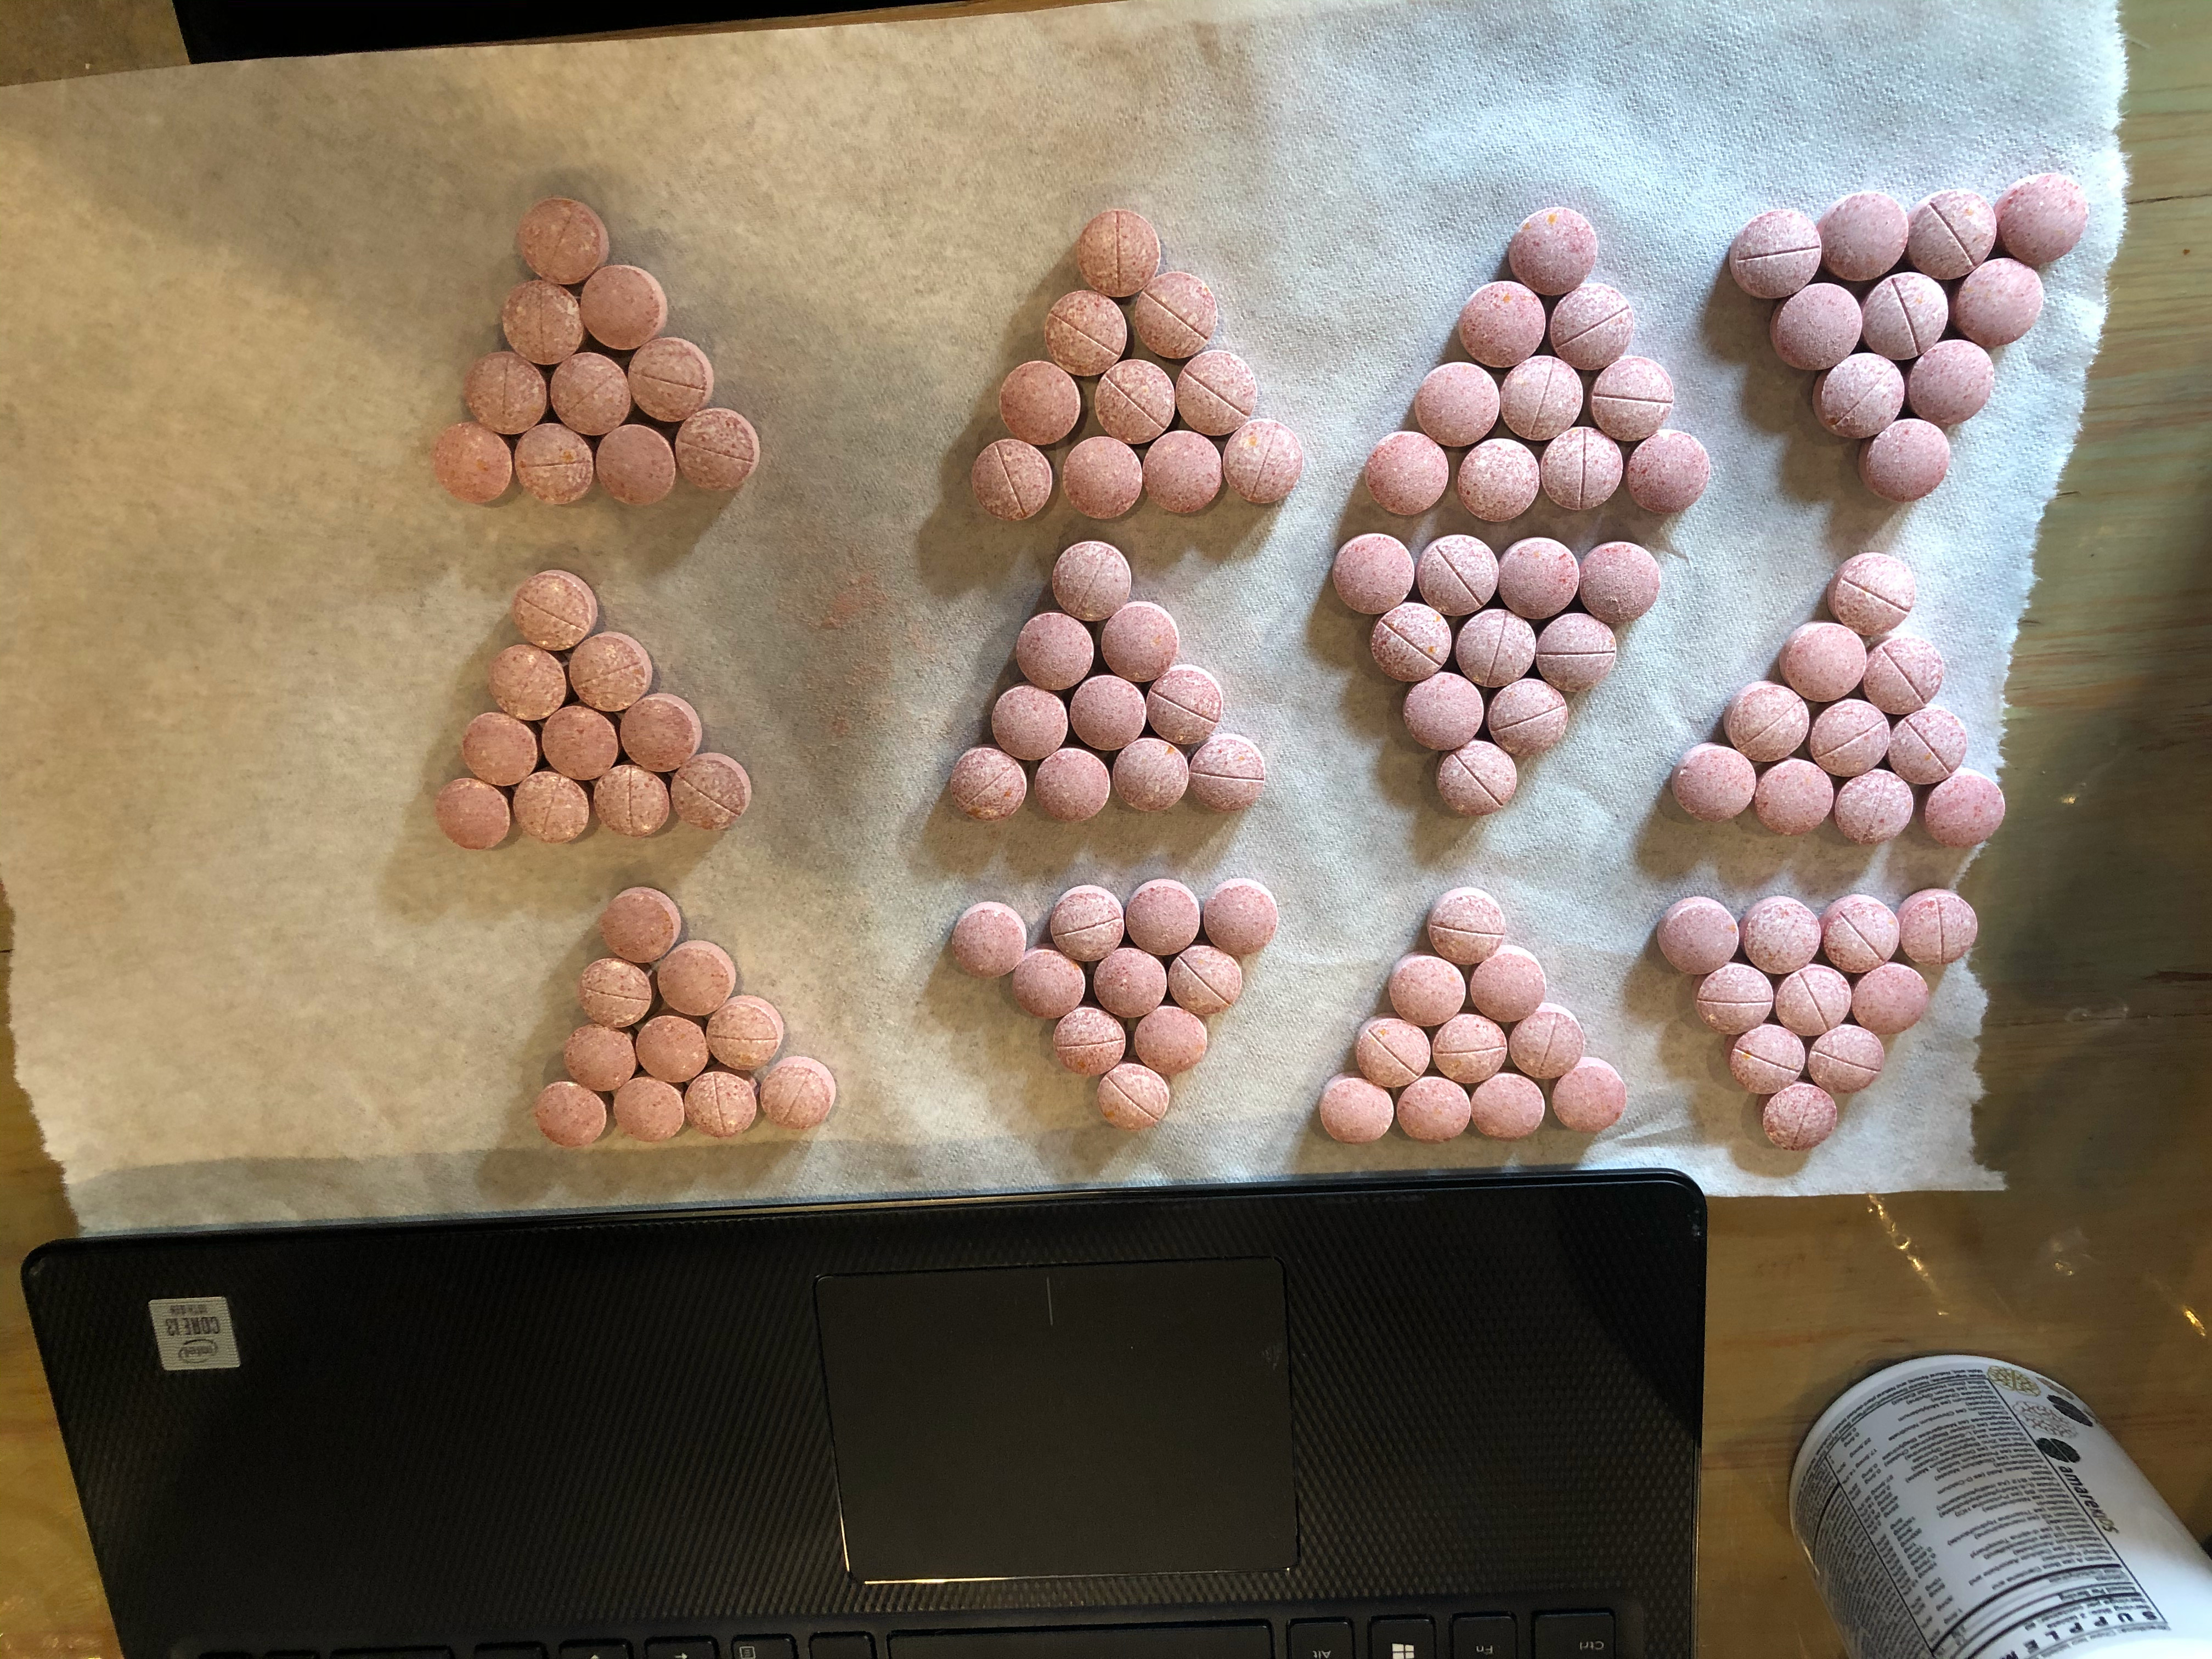tablet: (1533, 418, 1634, 516), (1993, 167, 2090, 267), (1949, 251, 2047, 350), (1613, 425, 1716, 519), (1815, 188, 1909, 291), (1730, 206, 1824, 303), (510, 193, 610, 286), (1905, 186, 2005, 279), (1768, 279, 1871, 368), (1493, 350, 1587, 446), (1545, 279, 1639, 373), (1507, 202, 1597, 300), (1454, 281, 1548, 373), (1858, 268, 1952, 361), (1904, 336, 1998, 429), (1587, 352, 1679, 444), (1449, 608, 1543, 699), (1219, 418, 1308, 514), (1409, 361, 1505, 450), (1810, 350, 1905, 439), (1575, 538, 1665, 631), (1360, 427, 1449, 521), (1858, 418, 1958, 502), (460, 350, 550, 441), (1777, 617, 1869, 706), (1719, 676, 1811, 765), (1890, 885, 1984, 972), (1359, 601, 1454, 687), (498, 277, 587, 368), (1329, 530, 1420, 619), (428, 418, 517, 507), (1134, 268, 1223, 357), (1456, 436, 1545, 525), (1073, 209, 1163, 296), (578, 263, 671, 349), (1042, 289, 1129, 378), (1059, 434, 1146, 523), (1531, 608, 1618, 697), (672, 408, 763, 493), (1143, 429, 1228, 519), (1737, 894, 1827, 979), (1496, 533, 1580, 626), (1827, 551, 1919, 634), (1090, 357, 1177, 444), (1172, 350, 1259, 437), (1414, 532, 1501, 619), (996, 359, 1082, 448), (615, 692, 705, 775), (590, 423, 678, 509), (1749, 753, 1836, 838), (543, 352, 632, 436), (968, 437, 1057, 521), (1045, 538, 1134, 622), (624, 336, 714, 418), (1669, 742, 1761, 823), (1651, 894, 1743, 974), (510, 422, 594, 509), (944, 896, 1031, 979), (1420, 884, 1507, 967), (1200, 871, 1280, 962), (510, 568, 596, 652), (566, 631, 653, 713), (1486, 678, 1573, 760), (1918, 772, 2008, 850), (1862, 633, 1946, 716), (1834, 767, 1918, 850), (669, 753, 754, 835), (986, 683, 1071, 765), (1186, 734, 1268, 819), (700, 993, 787, 1073), (486, 641, 570, 723), (1120, 875, 1204, 957), (1808, 697, 1892, 779), (1888, 706, 1972, 788), (1815, 890, 1898, 972), (1012, 610, 1097, 690), (1433, 741, 1521, 819), (948, 744, 1029, 826), (1399, 671, 1480, 753), (1099, 601, 1179, 685), (1066, 674, 1150, 755), (1468, 941, 1547, 1026), (538, 706, 622, 784), (589, 765, 672, 843), (756, 1053, 840, 1131), (1163, 945, 1251, 1019), (1144, 664, 1223, 746), (1050, 884, 1129, 965), (1386, 950, 1470, 1026), (1804, 1019, 1888, 1096), (1547, 1058, 1627, 1136), (432, 775, 514, 852), (601, 887, 683, 964), (1008, 945, 1090, 1021), (1850, 960, 1932, 1037), (1348, 1012, 1432, 1087), (653, 941, 738, 1014), (1693, 964, 1778, 1037), (1031, 748, 1109, 826), (1730, 1023, 1810, 1100), (460, 709, 542, 784), (510, 770, 592, 845), (1109, 737, 1188, 814), (1090, 945, 1169, 1021), (1317, 1070, 1393, 1148), (1432, 1011, 1510, 1087), (559, 1021, 639, 1096), (632, 1012, 714, 1086), (1047, 1006, 1129, 1079), (1090, 1063, 1176, 1133), (1134, 1004, 1214, 1077), (1759, 1080, 1841, 1152), (1773, 964, 1857, 1033), (1510, 1004, 1585, 1080), (683, 1070, 763, 1141), (1395, 1072, 1470, 1147), (1467, 1072, 1547, 1141), (575, 957, 653, 1026), (531, 1080, 610, 1148), (608, 1079, 688, 1143)
